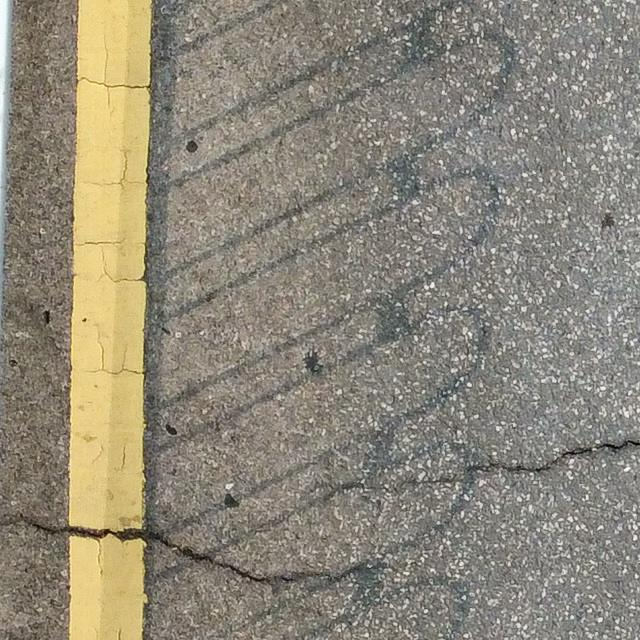TransverseCrack: (19, 514, 296, 583), (471, 437, 640, 473)
